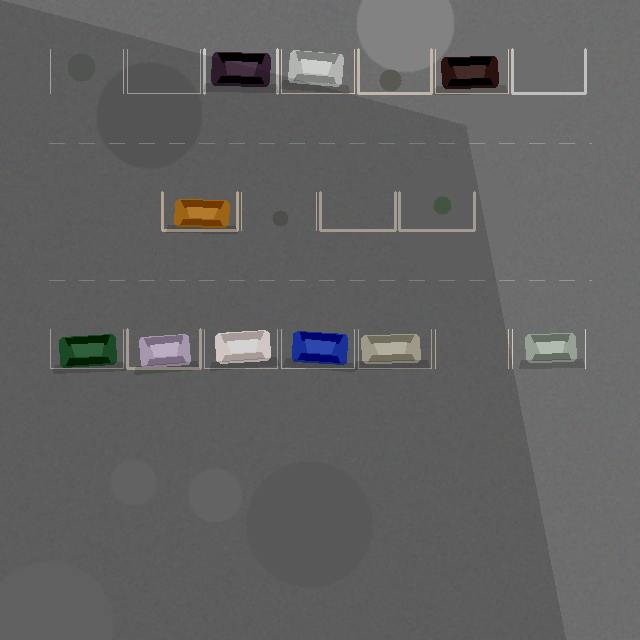space-empty: (50, 49, 123, 93), (127, 49, 200, 93), (358, 49, 431, 93), (512, 49, 585, 93), (241, 192, 316, 230), (320, 192, 395, 230), (399, 192, 474, 230), (435, 329, 508, 368)
space-occupied: (204, 49, 277, 93), (281, 49, 354, 93), (435, 49, 508, 93), (162, 192, 237, 230), (50, 329, 123, 368), (127, 329, 200, 368), (204, 329, 277, 368), (281, 329, 354, 368), (358, 329, 431, 368), (512, 329, 585, 368)
